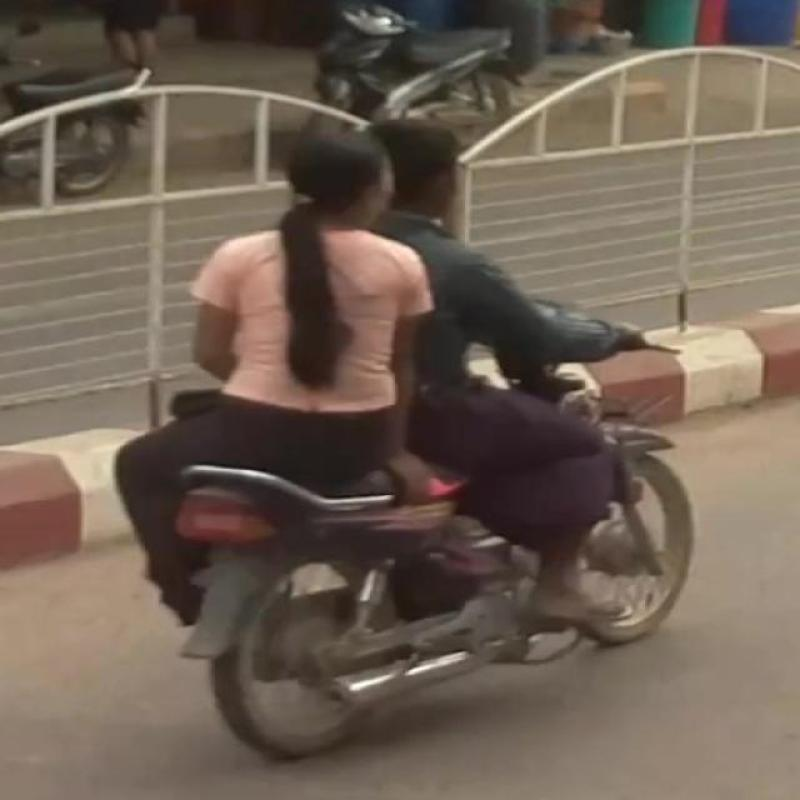nohelmet: (288, 113, 432, 228)
